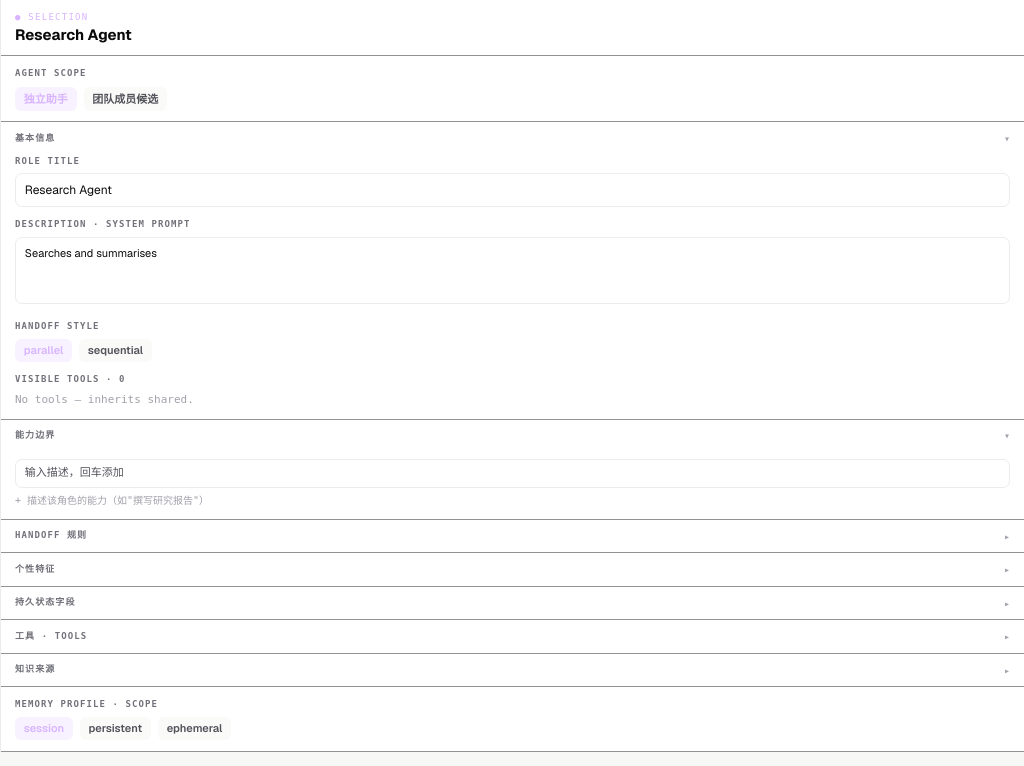
Test: AC1 — 分组折叠展开 › 点击 Handoff 规则 切换展开
Click the button with test id "section-handoff-rules-toggle" at coordinates (51, 535), box [1,520,1023,552]
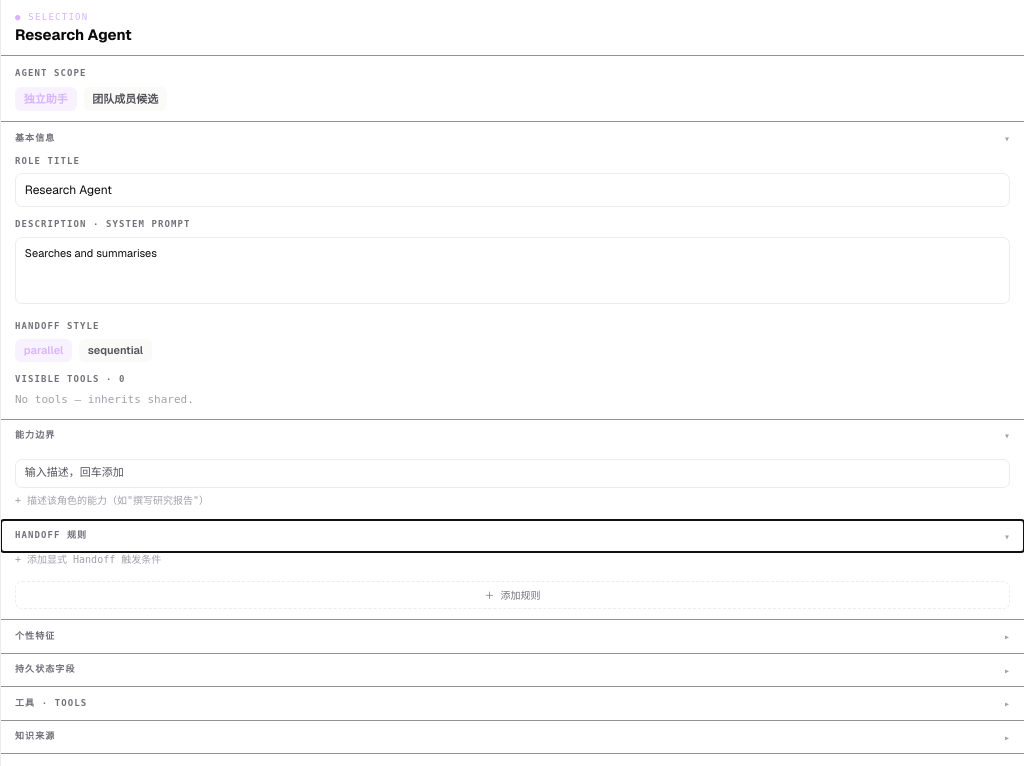
Expected: the element with test id "handoff-rules-editor" is shown, [15,552,1010,609]
Click the button with test id "section-handoff-rules-toggle" at coordinates (51, 535), box [1,520,1023,552]
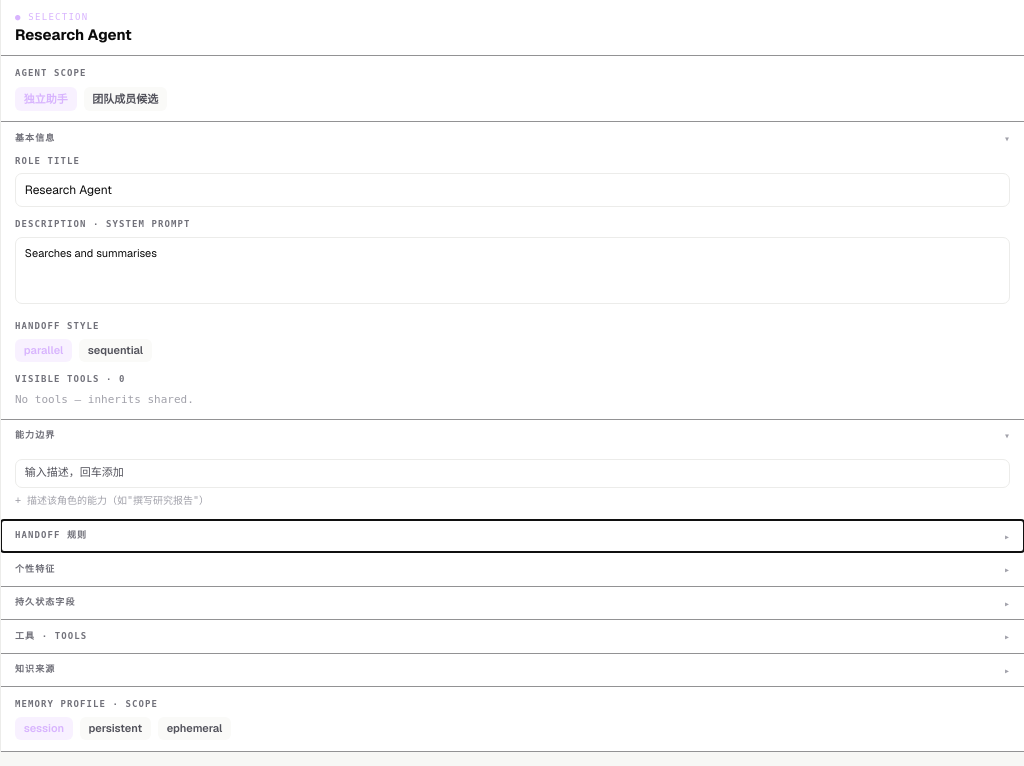
Expected: the element with test id "handoff-rules-editor" is gone
